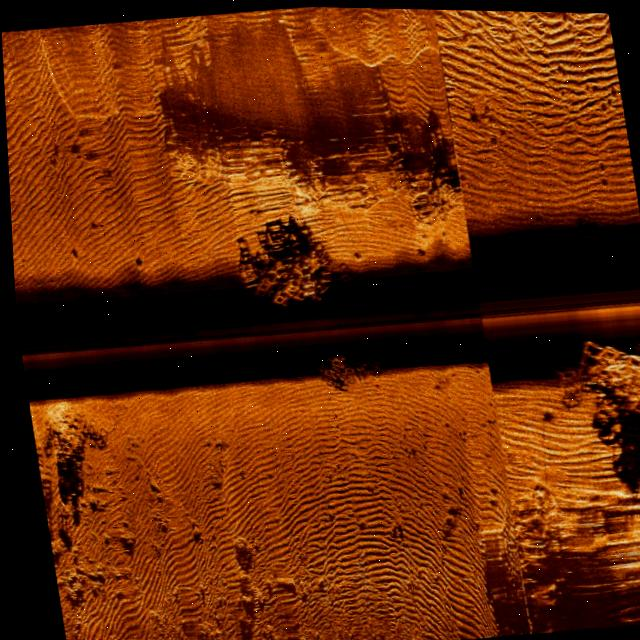artificial reef: (210, 224, 335, 316), (561, 331, 640, 467), (284, 328, 391, 390)
